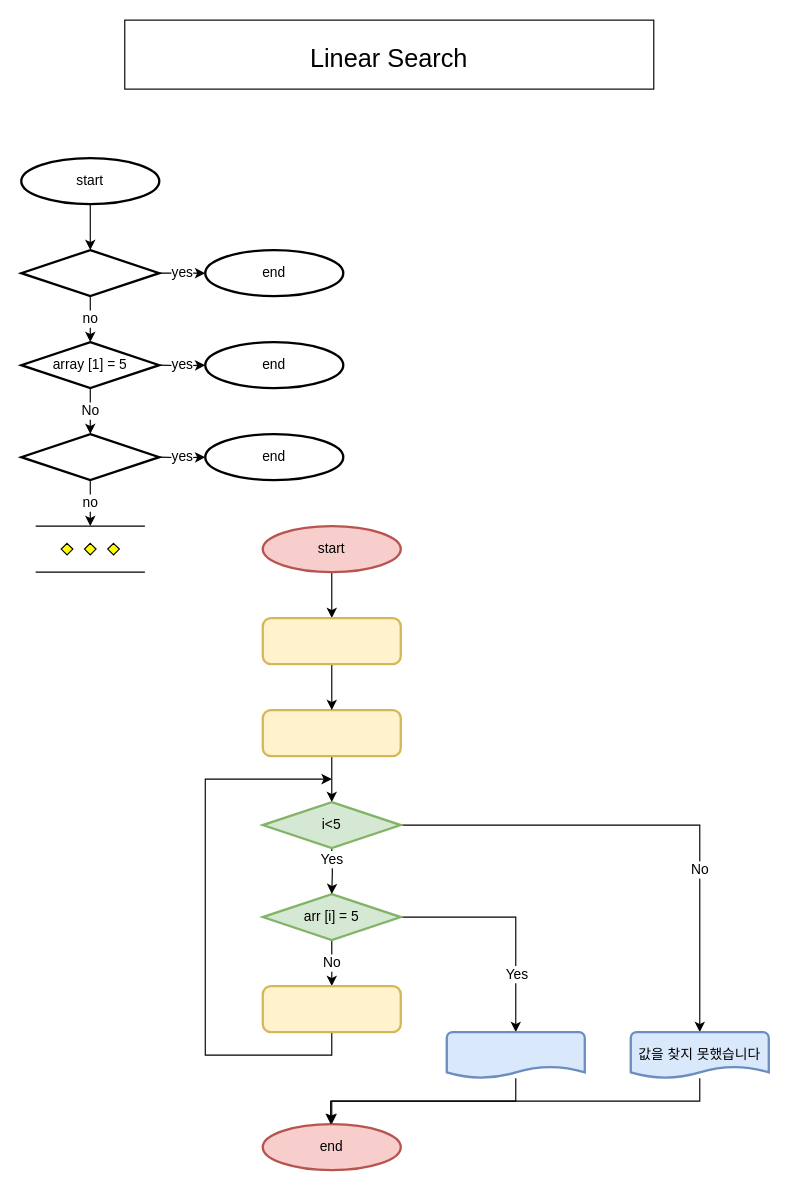
The diagram is 789 pixels wide and 1191 high, and some of its shapes have lost their labels. The centre of each missing label's shape, as x and y in pixels:
"arr [5] = 4, 2, 3, 5, 1" belongs at (331,640).
"array [0] = 5" belongs at (90,272).
"array [2] = 5" belongs at (90,456).
"i = 0" belongs at (331,732).
"i = i+1" belongs at (331,1008).
"찾는 값은 i번째에 있습니다." belongs at (515,1054).
